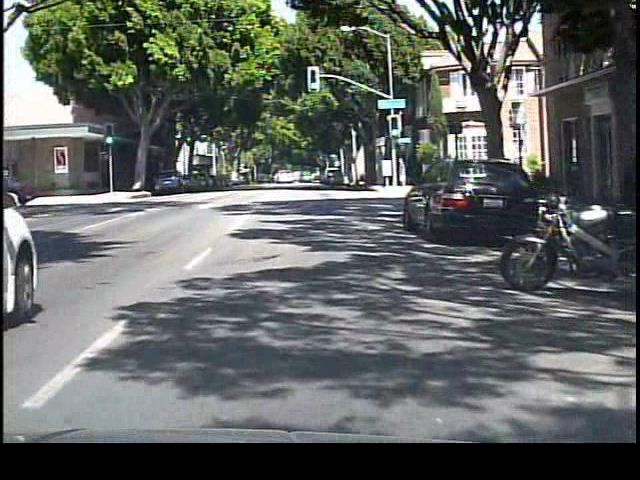person: (393, 156, 411, 191)
